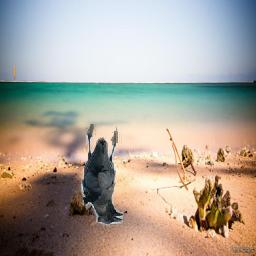Crow: (81, 125, 123, 228)
